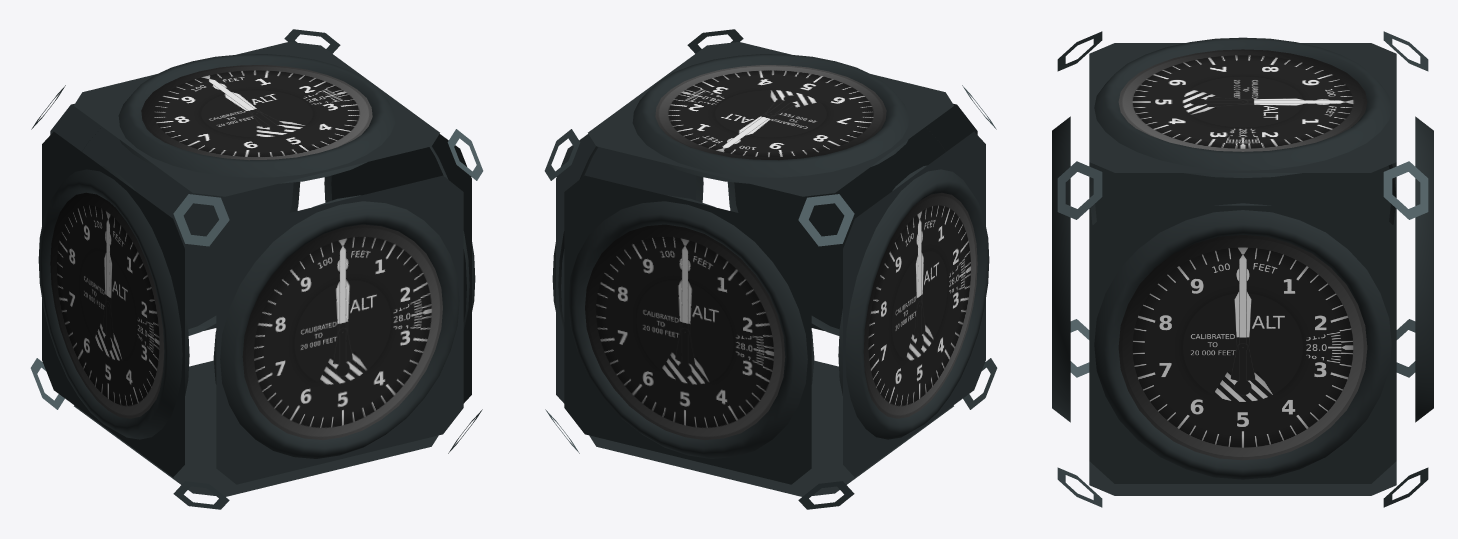
Rendered from fant_altimeter.obj.
3 renders of one model, left to right at view 1: azimuth 30°, elevation 25°; view 2: azimuth 150°, elevation 25°; view 3: azimuth 270°, elevation 25°, orthographic. The views are drawn at different scales.
Visible parts, largest first — view 1: fant_altimeter_Cube; view 2: fant_altimeter_Cube; view 3: fant_altimeter_Cube.
Part boxes in pixels (x1,y1,x2,y2): fant_altimeter_Cube: (30,29,483,509); fant_altimeter_Cube: (544,29,997,509); fant_altimeter_Cube: (1052,31,1433,507).
Bounding box in the file's own units: 1 × 1 × 1.
